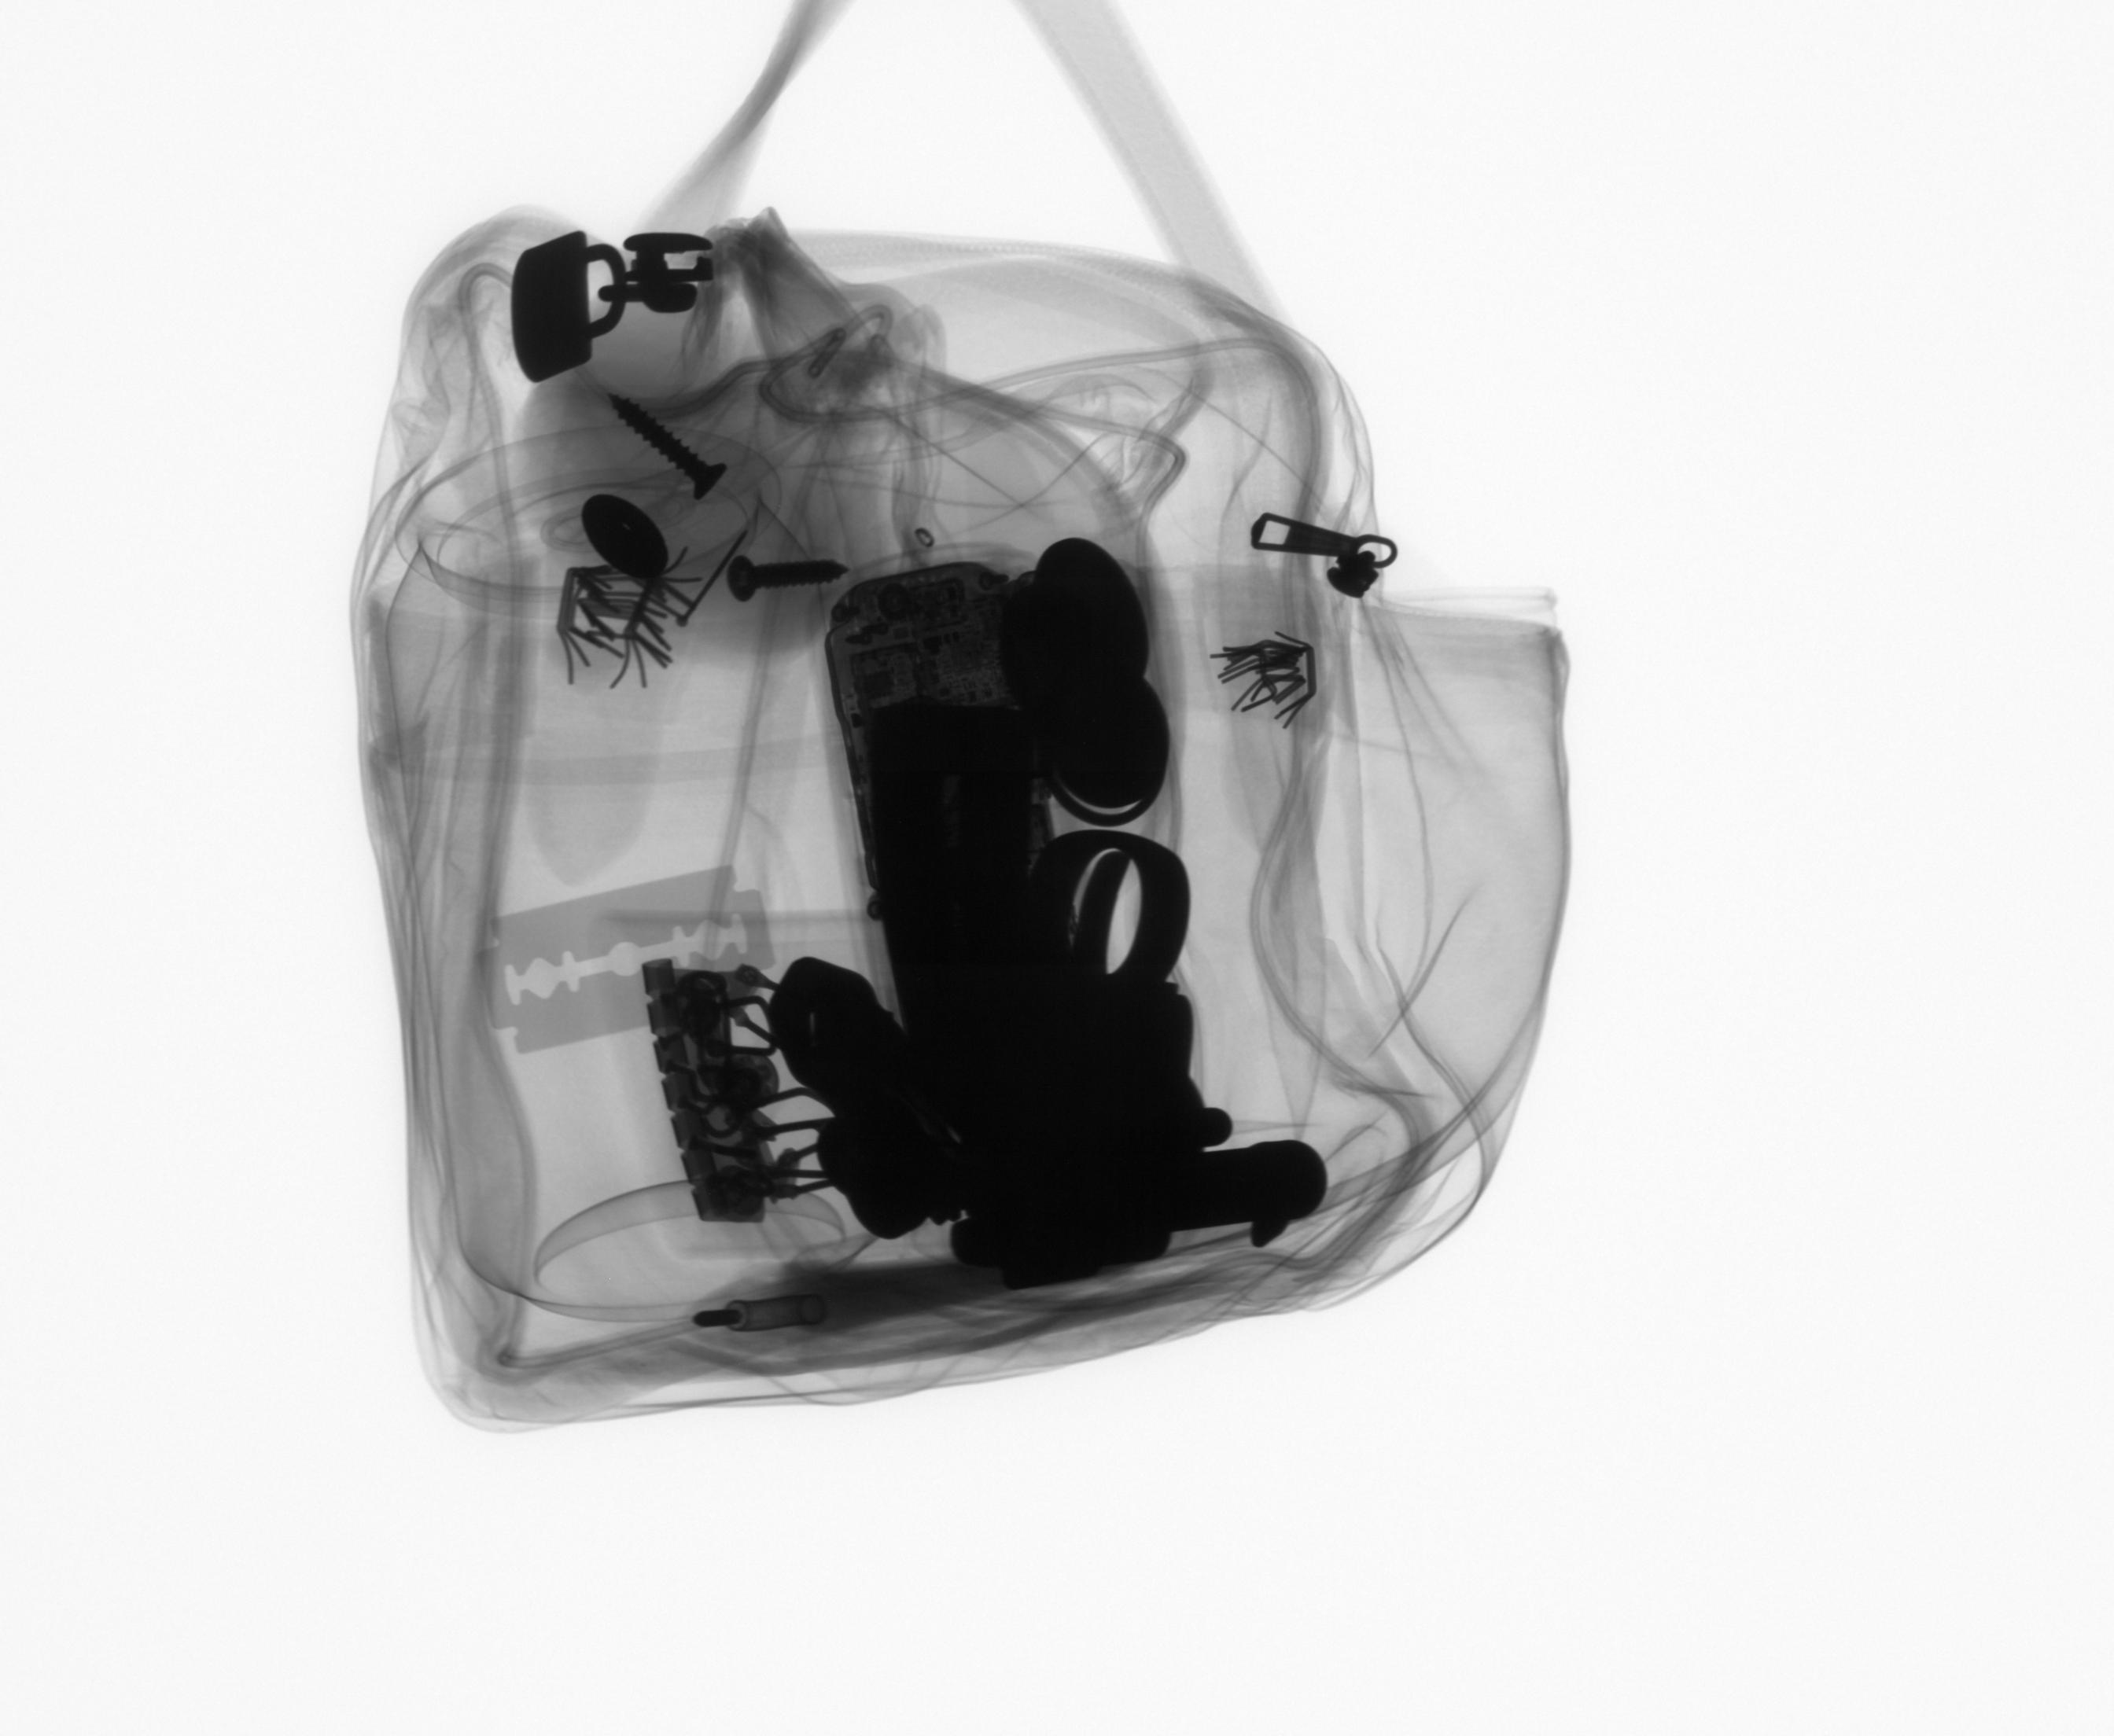Handgun: (848, 700, 1338, 1297)
RazorBlade: (467, 857, 783, 1064)
